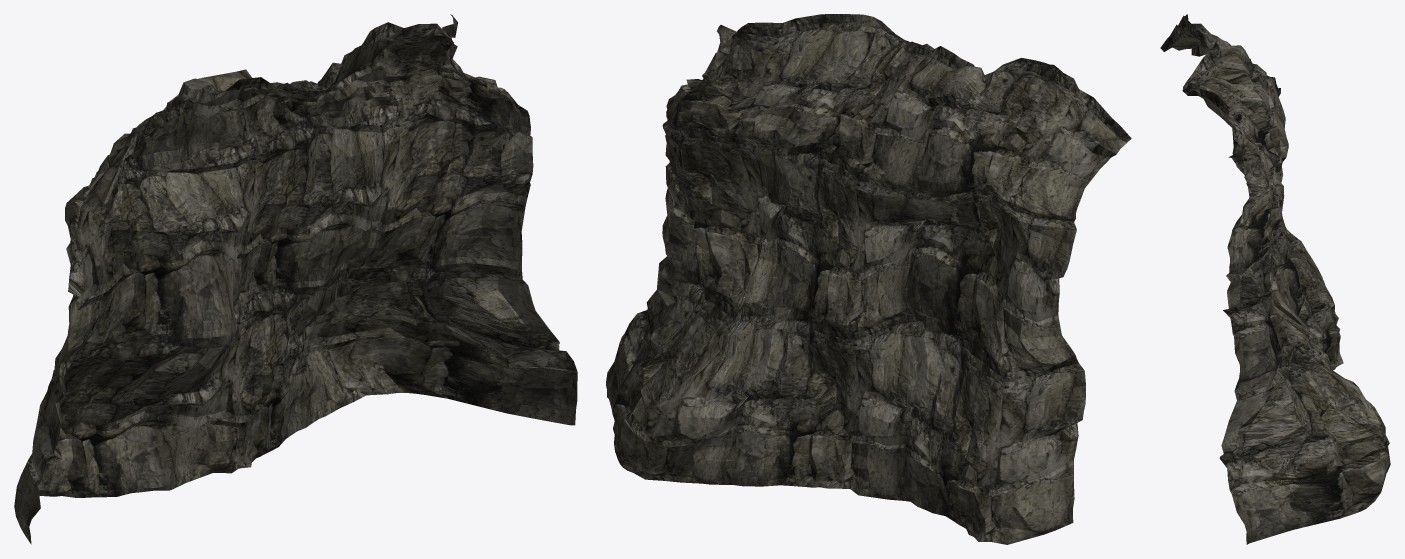
Rendered from rock_detail_B.FBX.
The picture shows the model from 3 angles, left to right: view 1: azimuth 30°, elevation 25°; view 2: azimuth 150°, elevation 25°; view 3: azimuth 270°, elevation 25°; orthographic projection. The views are drawn at different scales.
Visible parts, largest first — view 1: rock_detail_B; view 2: rock_detail_B; view 3: rock_detail_B.
Boxes of the visible parts, x1,y1,x2,y2 form: rock_detail_B: (14,14,577,544); rock_detail_B: (606,14,1131,544); rock_detail_B: (1160,14,1390,544).
Size of the model in its own units: 44.63 by 37.22 by 21.28.
